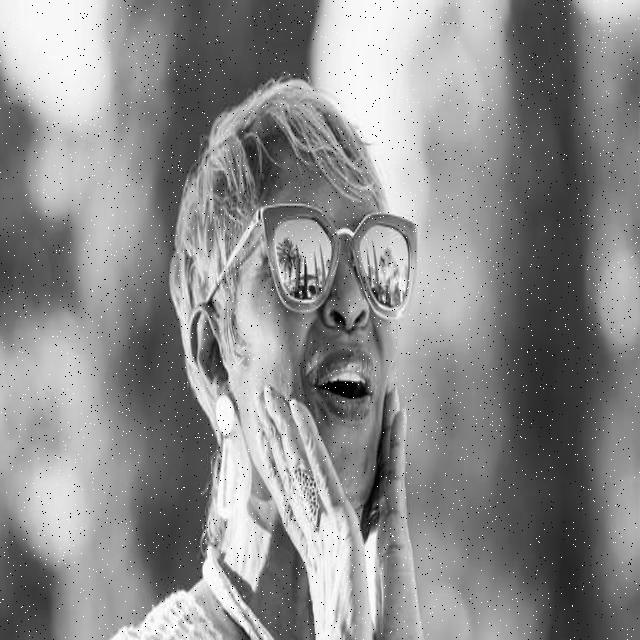Surprised: (228, 142, 398, 509)
